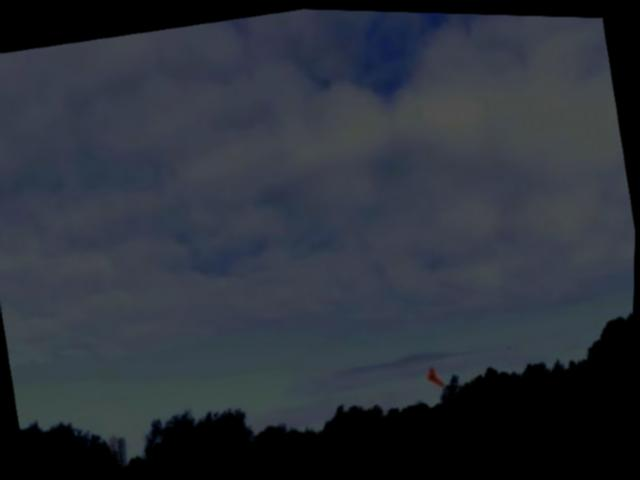flying wing: (426, 360, 447, 388)
